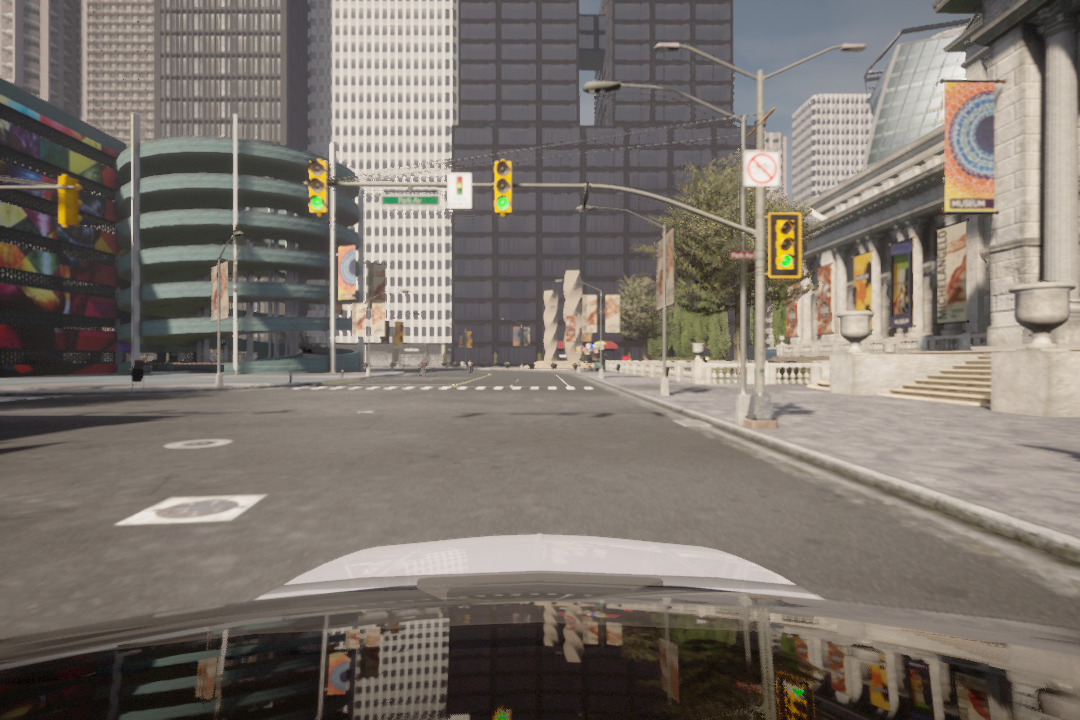TrafficLight: (769, 214, 801, 281), (304, 159, 331, 213), (494, 158, 513, 211)
TrafficSign: (744, 148, 781, 187)
walkside: (291, 383, 600, 393)
